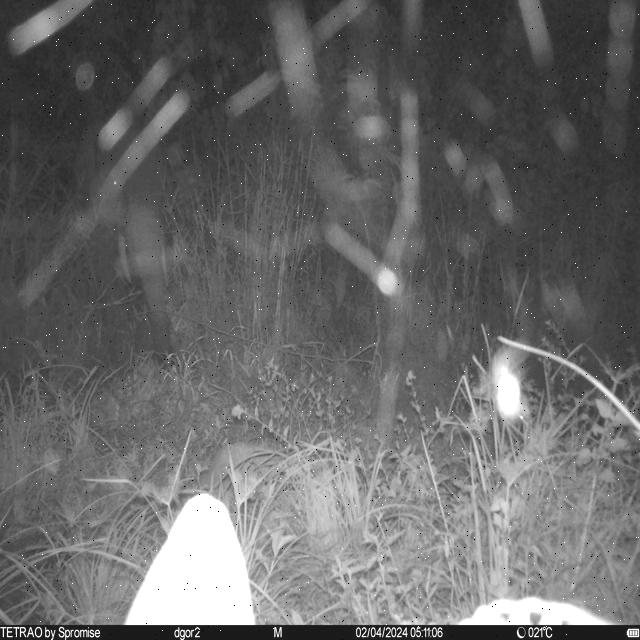elephant: (86, 98, 176, 368)
tusk: (118, 233, 136, 286), (159, 238, 172, 290)
